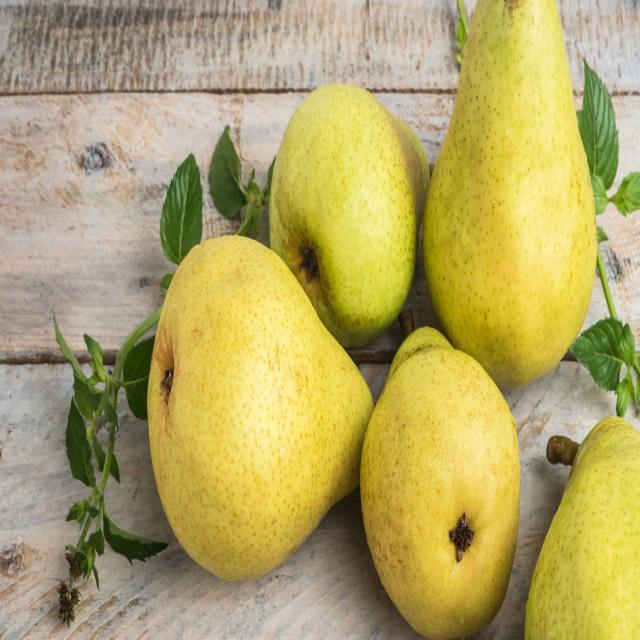pera: (120, 211, 390, 573)
